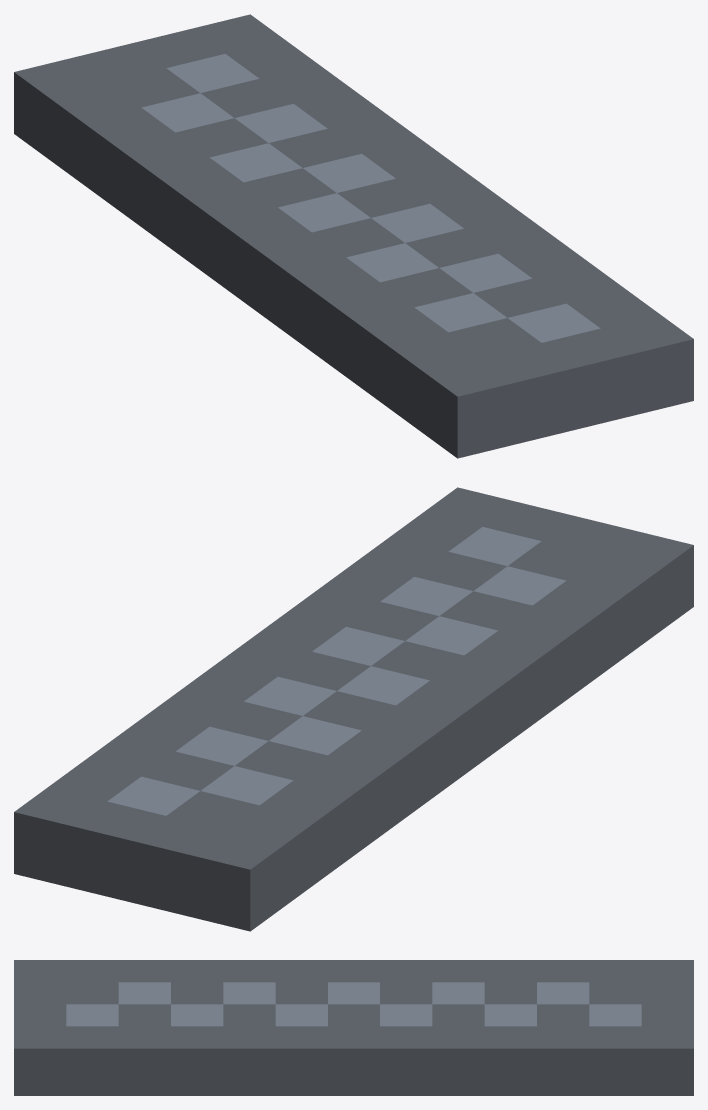
File: keyboard.obj
3 renders of one model, top to bottom at view 1: azimuth 30°, elevation 25°; view 2: azimuth 150°, elevation 25°; view 3: azimuth 270°, elevation 25°, orthographic. The views are drawn at different scales.
Size of the model in its own units: 0.4 by 0.1 by 1.3.
1 material, 1 textured.
